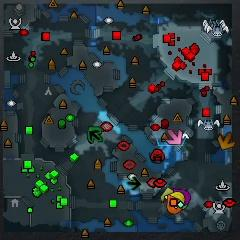p2: (181, 202, 189, 210)
p3: (174, 189, 191, 204)
p4: (171, 192, 184, 203)
p5: (167, 194, 183, 215)
x1: (167, 129, 182, 145)
x2: (161, 188, 174, 200)
x4: (88, 125, 103, 135)
x4Clone: (126, 176, 142, 191), (88, 129, 101, 143)
x5: (218, 132, 235, 150)
